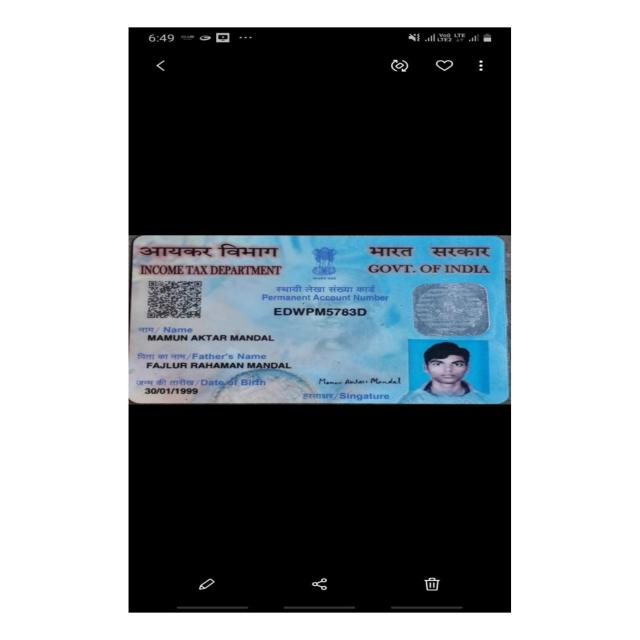pan_card: (129, 235, 505, 403)
